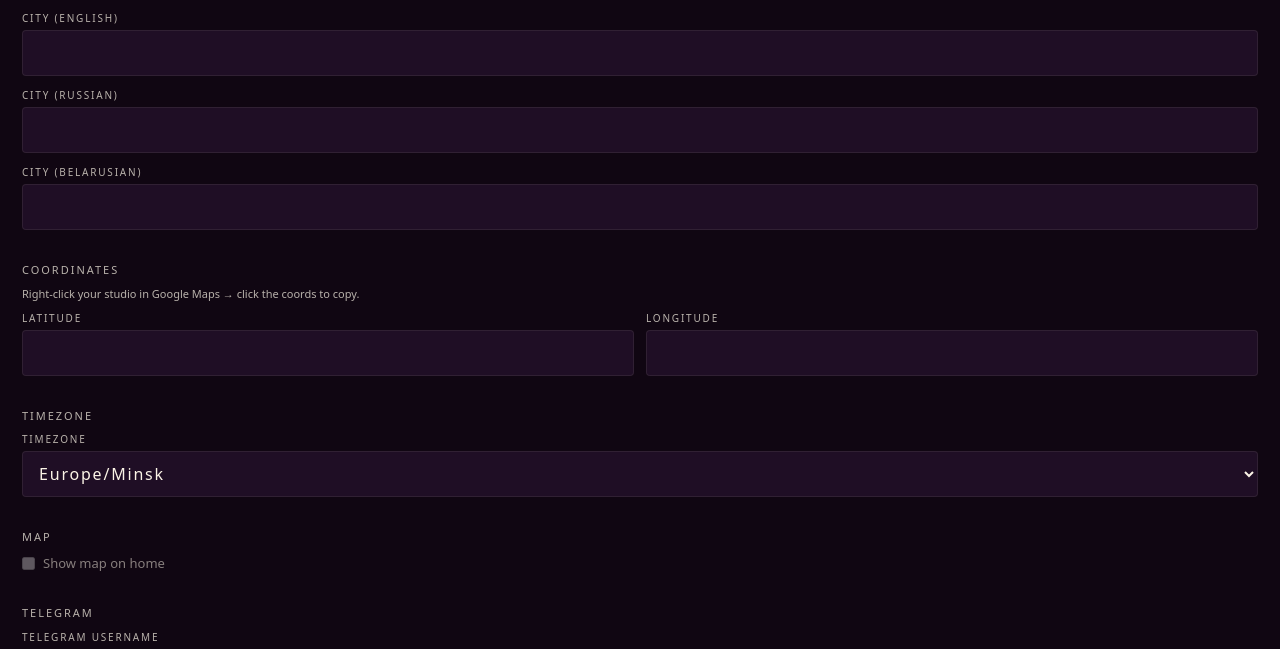
Test: StudioForm › enables the 'Show map' checkbox once both coords are filled
(page scrolled)
Step 1. Type "54.231" into the number field labelled "Latitude" → [328, 352], box top-left (22, 330), bottom-right (634, 376)
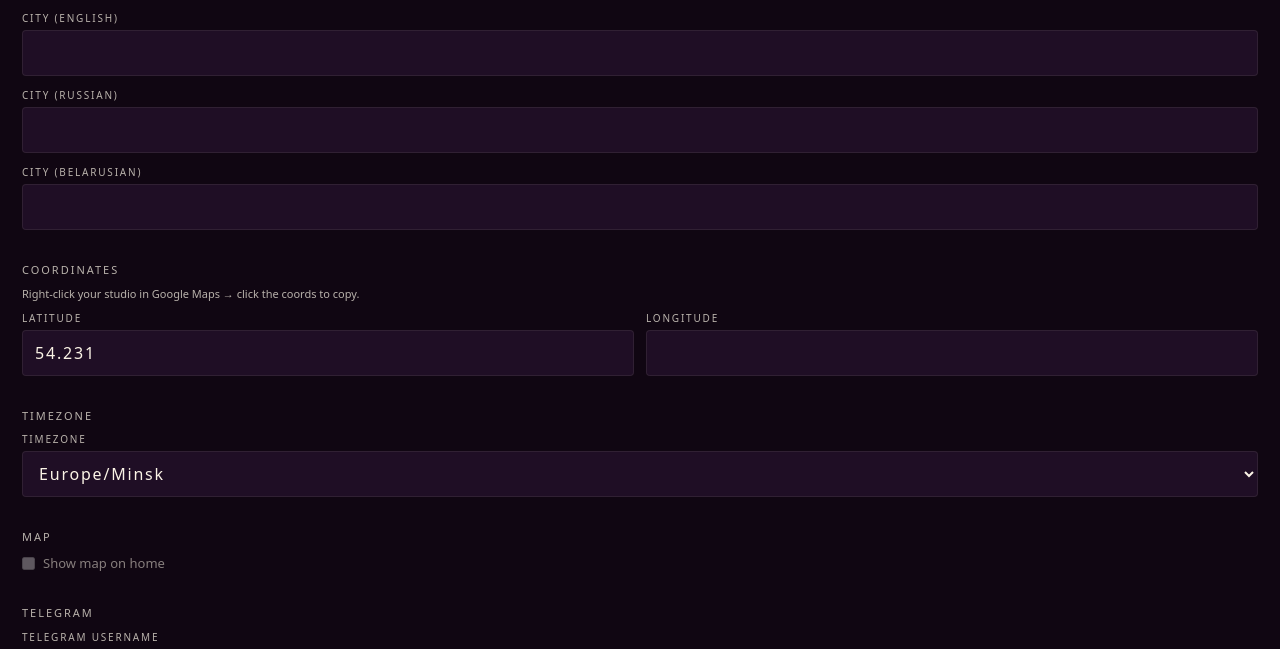
Step 2. Type "28.491" into the number field labelled "Longitude" → [952, 352], box top-left (646, 330), bottom-right (1258, 376)
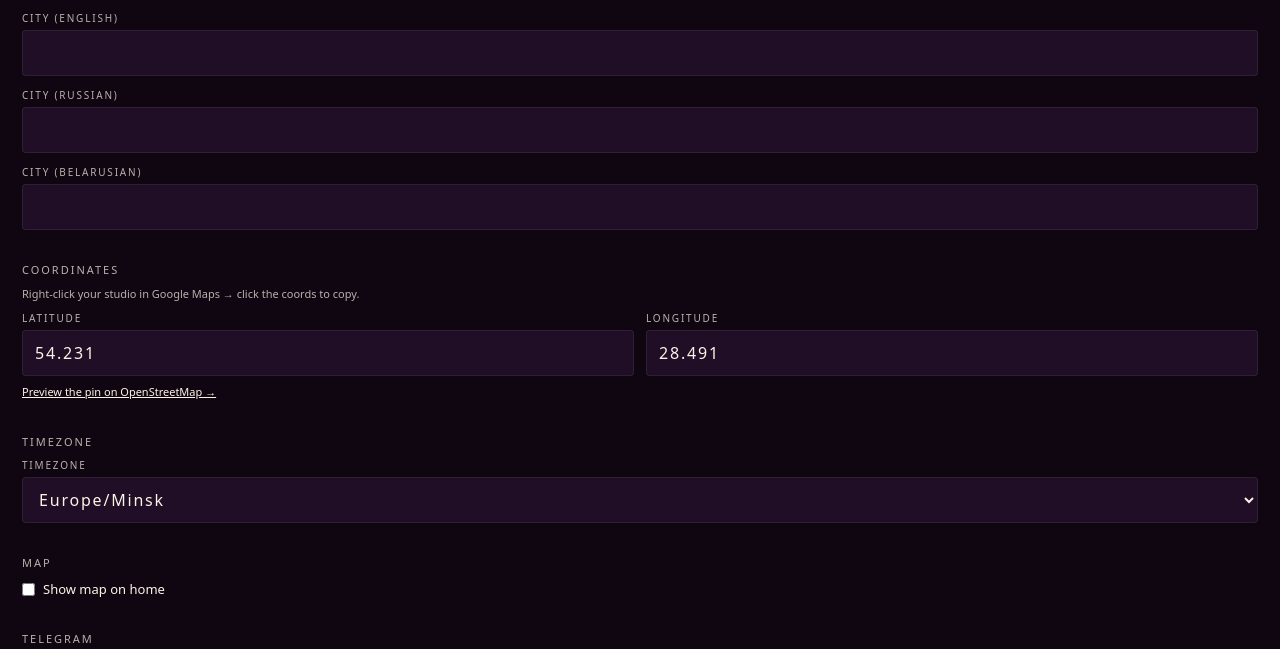
Expected: the checkbox labelled "Show map on home" is enabled, top-left (22, 583), bottom-right (35, 596)
